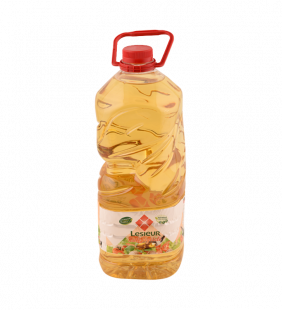Promotion: (89, 25, 192, 285)
